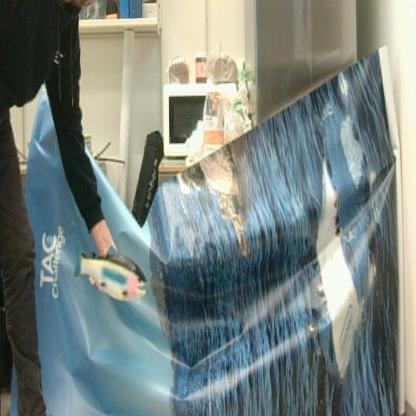rubberfish: (71, 233, 151, 307)
